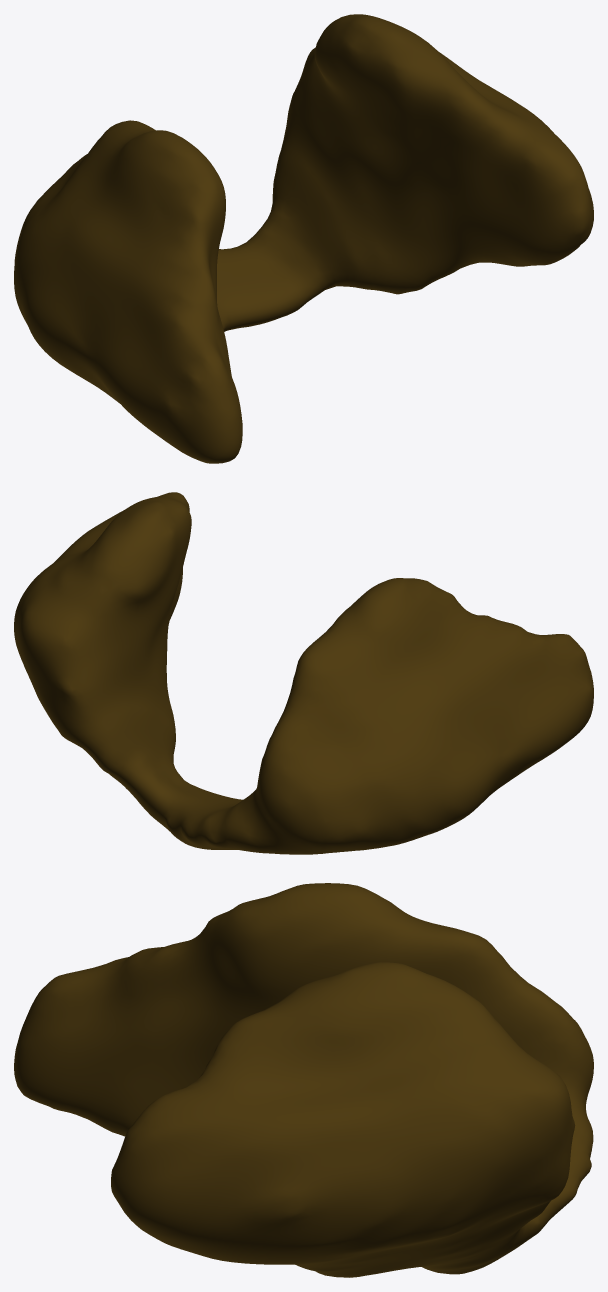
Rendered from thyroid.obj.
3 views of the same model, one above another, from view 1: azimuth 30°, elevation 25°; view 2: azimuth 150°, elevation 25°; view 3: azimuth 270°, elevation 25° (orthographic). The views are drawn at different scales.
Parts seen in each view (by area): view 1: grp1; view 2: grp1; view 3: grp1.
Part boxes in pixels (x1,y1,x2,y2): grp1: [14, 14, 593, 463]; grp1: [14, 492, 593, 854]; grp1: [14, 883, 593, 1277].
Bounding box in the file's own units: 52.77 × 31.96 × 47.25.
